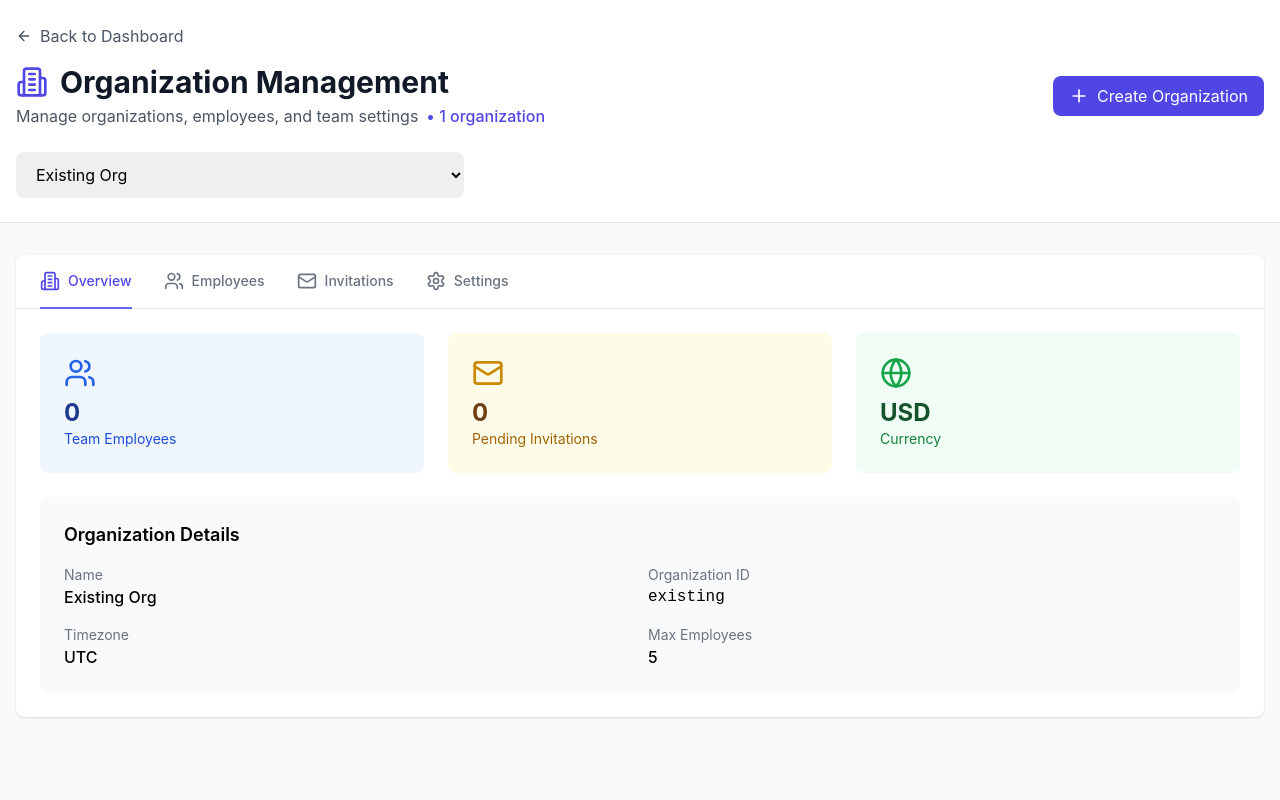
it: OrganizationManagement › Organization Creation › shows free tier limit error with upgrade prompt
Note: When orgs exist, the header shows "Create Organization" button
Click the button "Create Organization".
click(1159, 96)  # box [1053,76,1264,116]
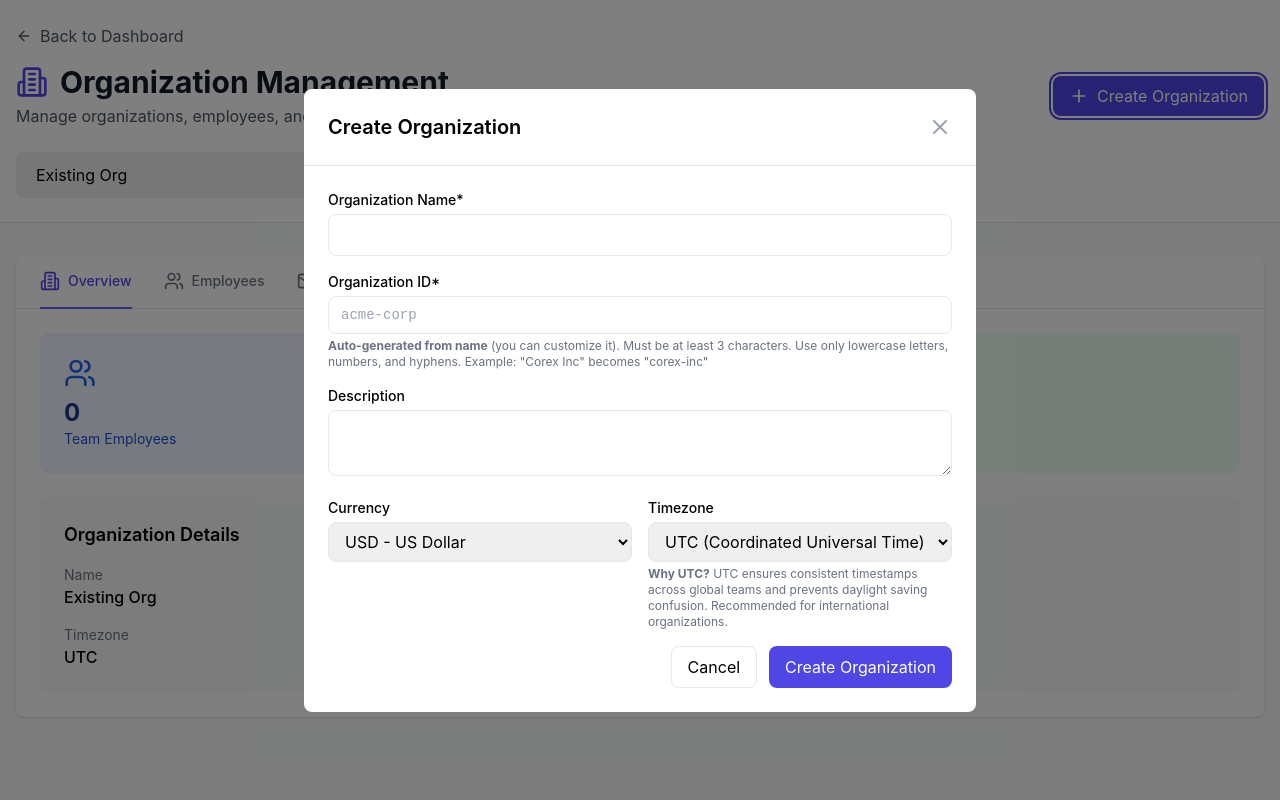
Type "Second Org" into the field labelled "Organization Name*".
click(640, 234); type("Second Org")  # box [328,214,952,256]
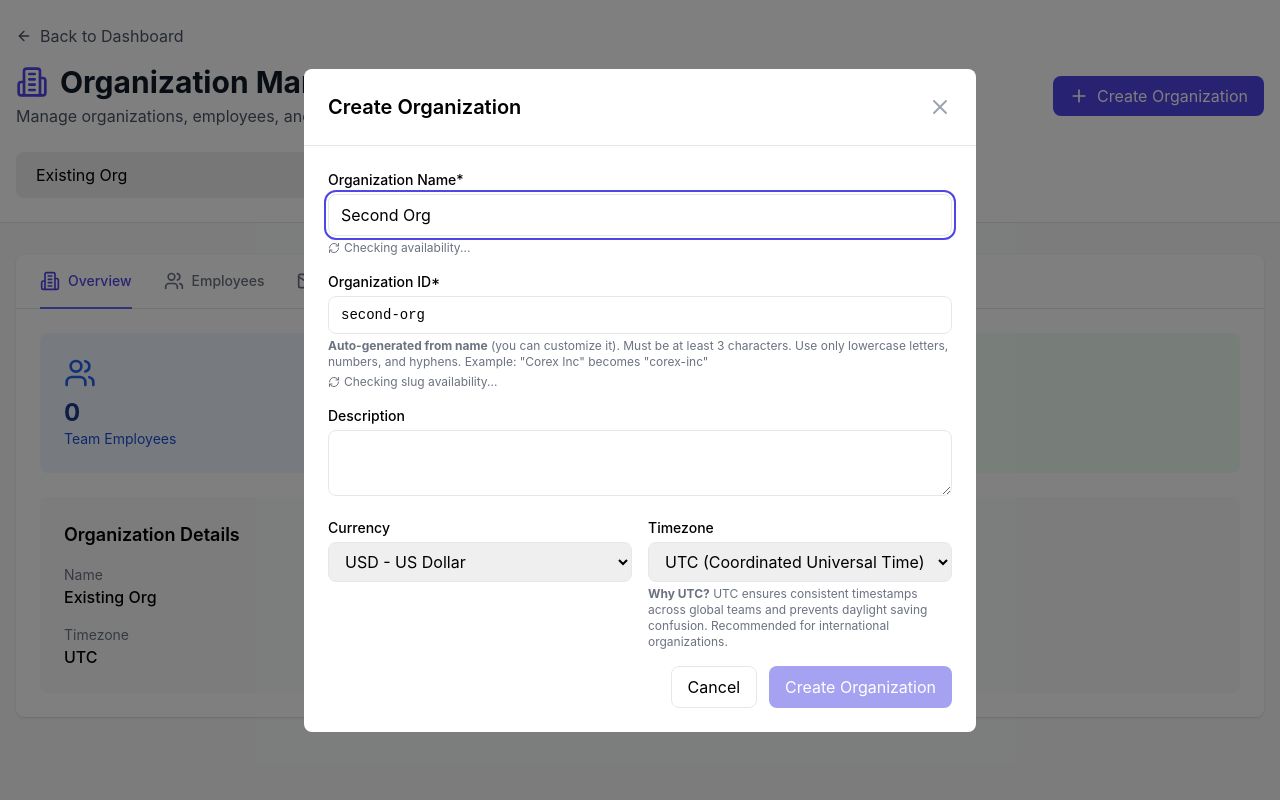
Clear the field labelled "Organization ID*" at (640, 314), box [328,296,952,334]
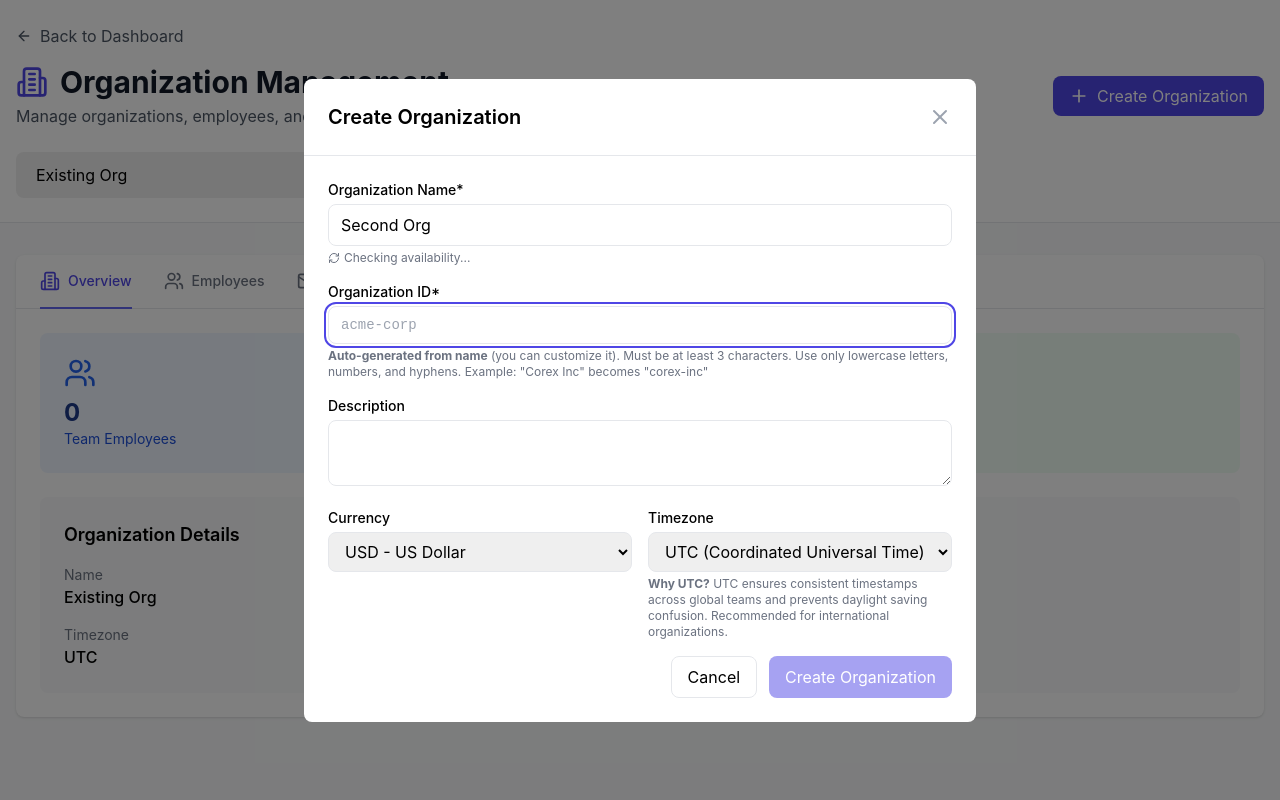
Type "second-org" into the field labelled "Organization ID*".
click(640, 324); type("second-org")  # box [328,306,952,344]
Wait 600 ms
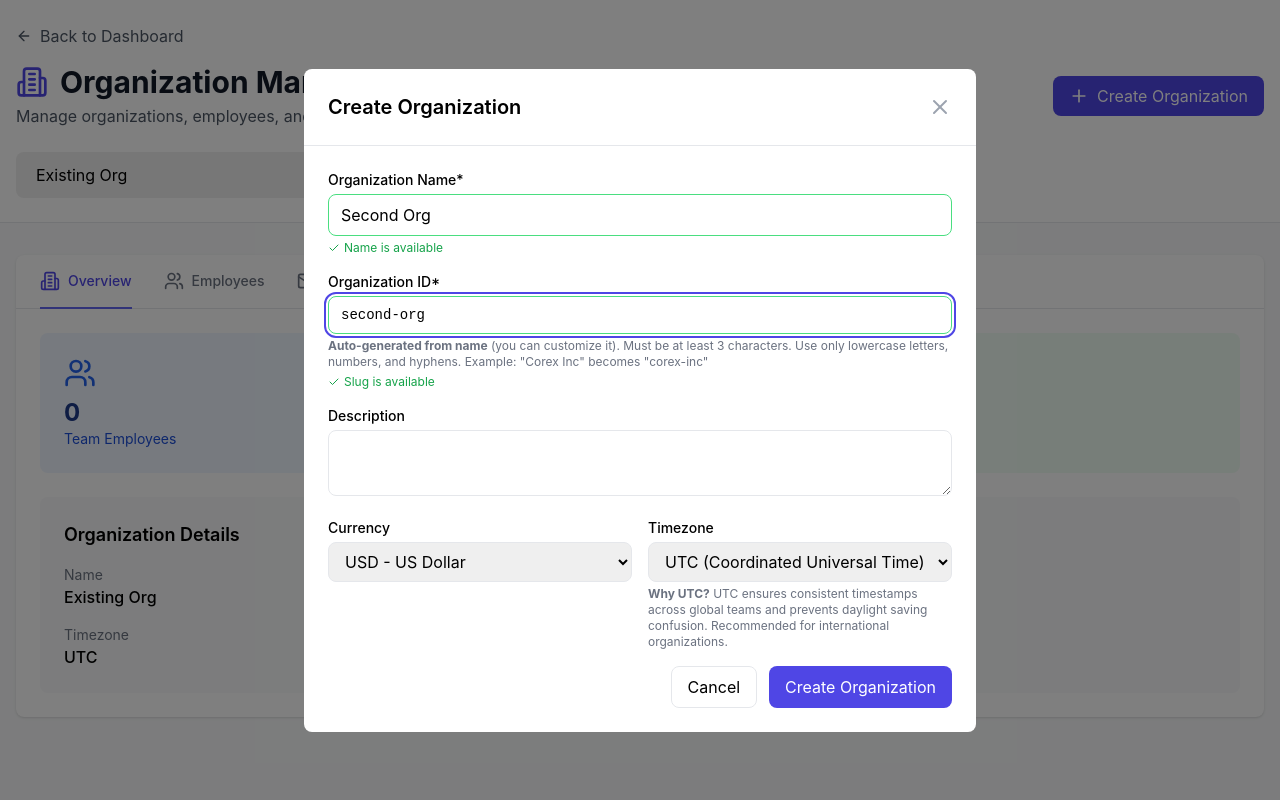
Expected: the button "Create Organization" is enabled
Note: Submit - use the modal's submit button (last matching button)
Click the button "Create Organization".
click(861, 686)  # box [769,666,952,708]
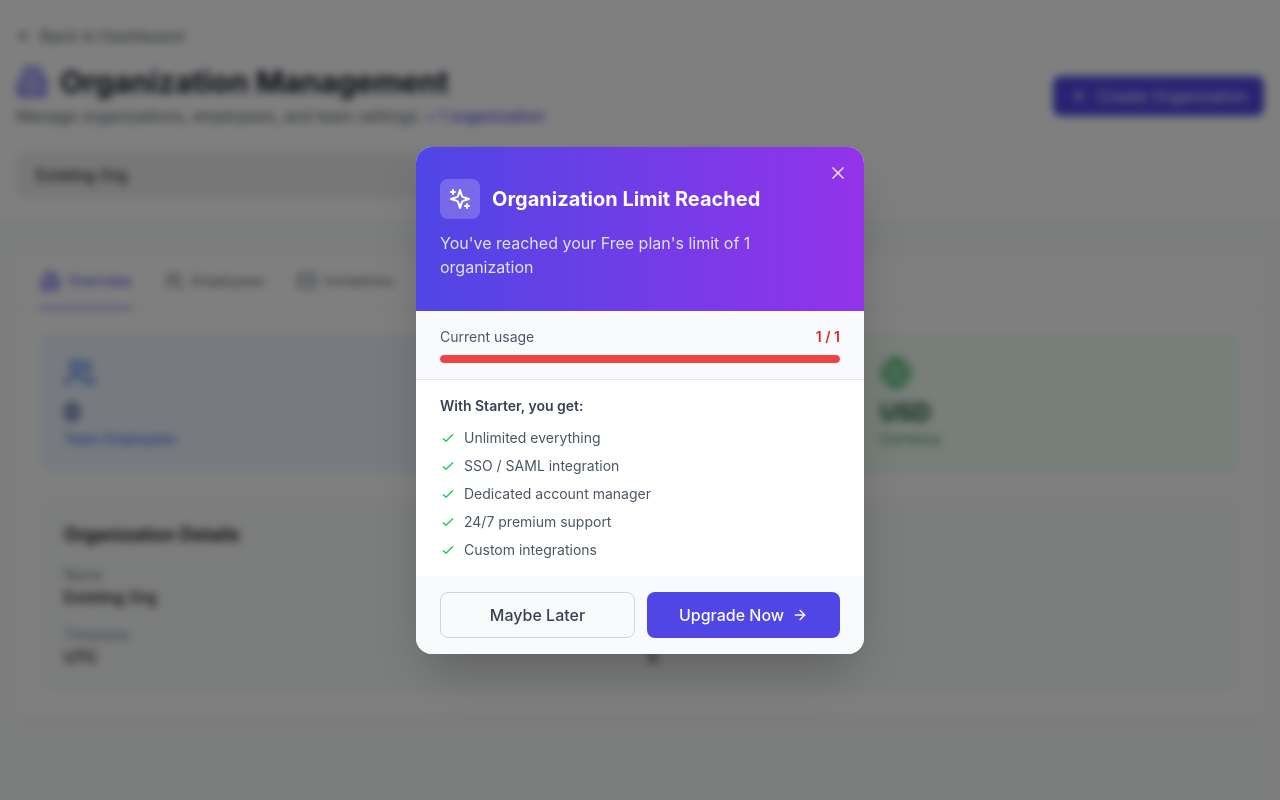
Expected: the button "Upgrade Now" is shown, [647,592,840,638]
